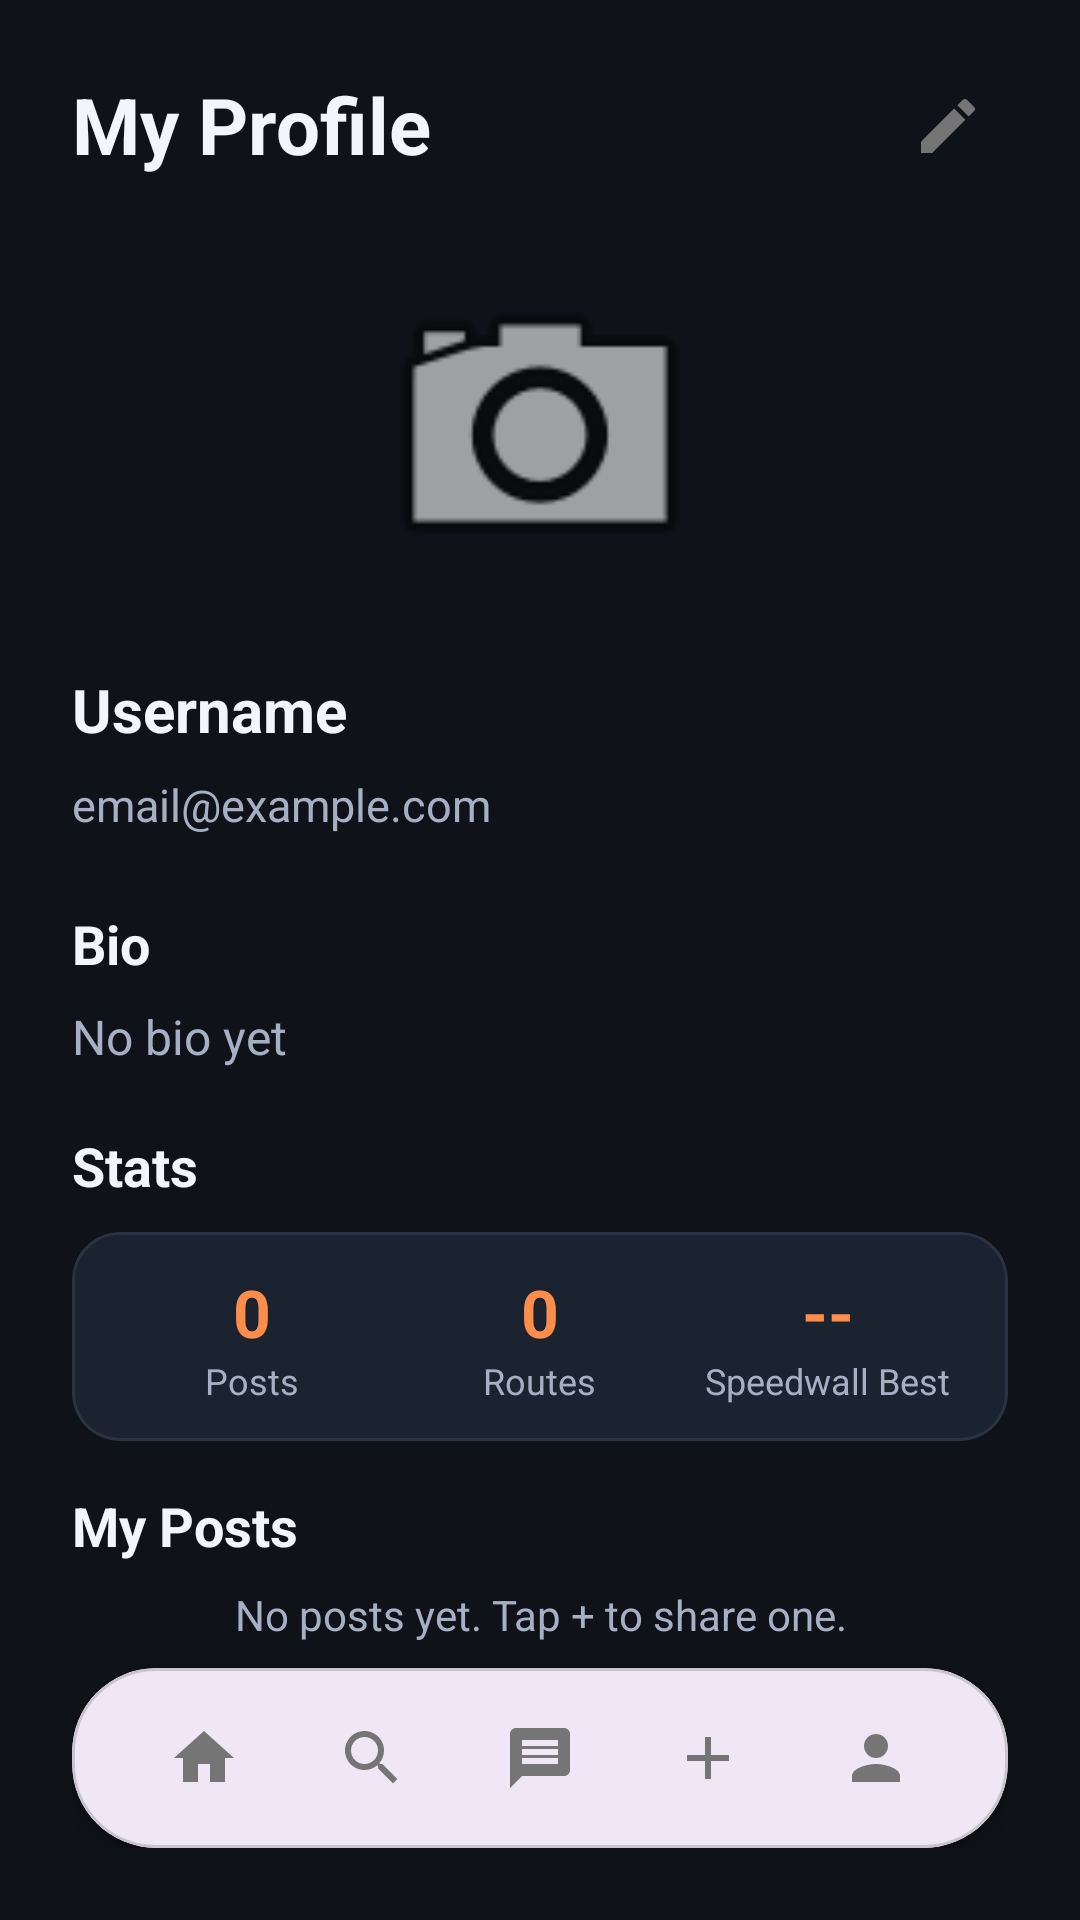

Icon click points for this 1080 × 1920 phone screenshot, format point (x, y):
Create post: point (708, 1758)
Home: point (204, 1756)
Messages: point (540, 1758)
Open profile: point (876, 1758)
Profile settings: point (948, 126)
Search: point (371, 1757)
